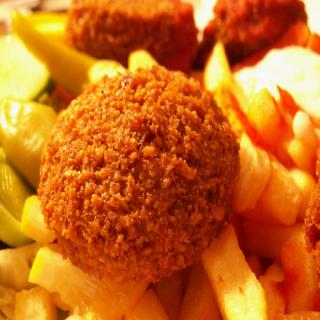French fries: (2, 10, 98, 86)
